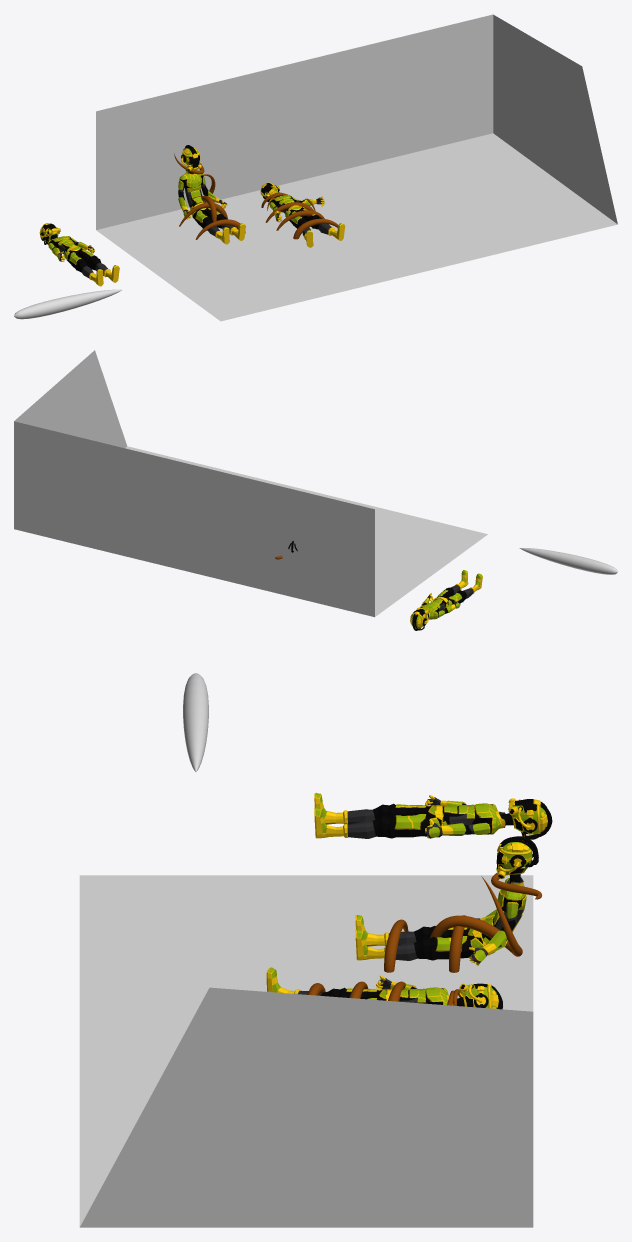
File: Spacesuit.fbx
The picture shows the model from 3 angles, top to bottom: view 1: azimuth 30°, elevation 25°; view 2: azimuth 150°, elevation 25°; view 3: azimuth 270°, elevation 25°; orthographic projection. The views are drawn at different scales.
Visible parts, largest first — view 1: Plane, SpaceSuit_Body.001, SpaceSuit_Body.002, SpaceSuit_Body, NurbsPath.001; view 2: Plane, SpaceSuit_Body.002, NurbsPath.001; view 3: Plane, SpaceSuit_Body.002, SpaceSuit_Body.001, SpaceSuit_Body, NurbsPath.001, NurbsPath.003.
Boxes of the visible parts, box(x1,y1,x2,y2) form: Plane: box(96, 14, 617, 321); SpaceSuit_Body.001: box(178, 145, 245, 244); SpaceSuit_Body.002: box(39, 223, 119, 286); SpaceSuit_Body: box(260, 182, 345, 247); NurbsPath.001: box(14, 289, 121, 319); Plane: box(14, 350, 487, 617); SpaceSuit_Body.002: box(410, 570, 482, 630); NurbsPath.001: box(519, 548, 617, 574); Plane: box(79, 875, 533, 1227); SpaceSuit_Body.002: box(314, 793, 552, 839); SpaceSuit_Body.001: box(355, 836, 538, 965); SpaceSuit_Body: box(266, 967, 502, 1009); NurbsPath.001: box(183, 673, 208, 771); NurbsPath.003: box(429, 876, 522, 956).
Bounding box in the file's own units: 2102 × 494 × 828.
